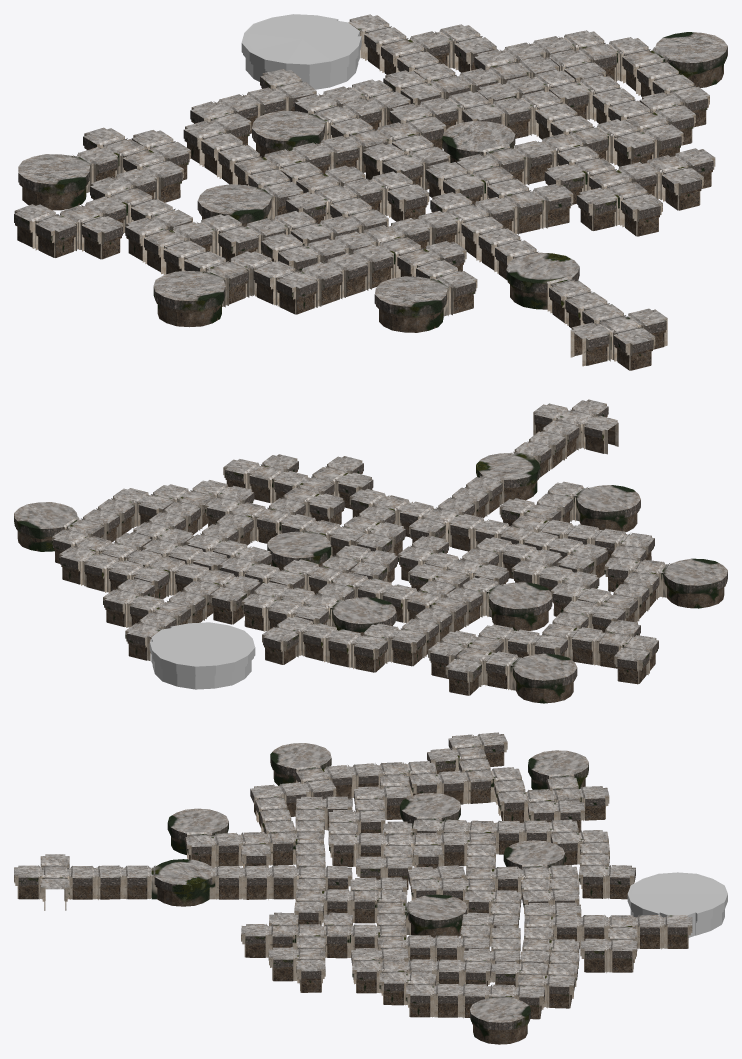
The model's file is mazeHitboxold.fbx.
The picture shows the model from 3 angles, top to bottom: view 1: azimuth 30°, elevation 25°; view 2: azimuth 150°, elevation 25°; view 3: azimuth 270°, elevation 25°; orthographic projection. The views are drawn at different scales.
Visible parts, largest first — view 1: hitbox; view 2: hitbox; view 3: hitbox.
Boxes of the visible parts, x1,y1,x2,y2 form: hitbox: (14, 14, 727, 370); hitbox: (14, 399, 727, 703); hitbox: (14, 732, 727, 1044).
Bounding box in the file's own units: 7557 × 307 × 7849.
